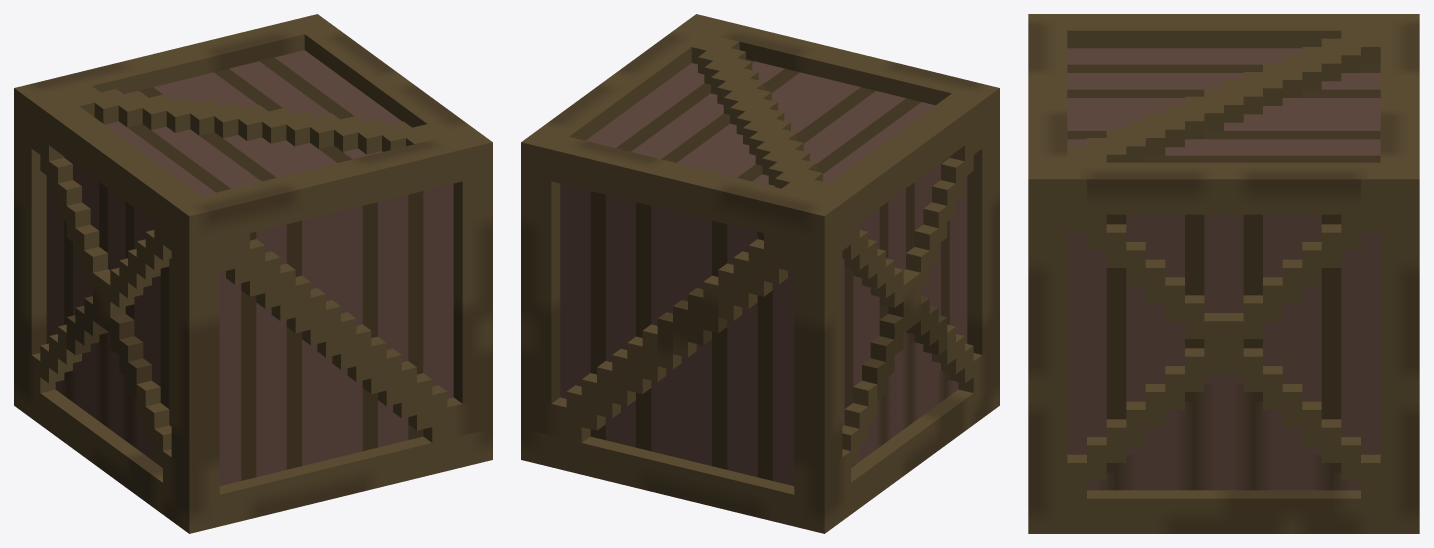
Rendered from Crate_Big_00.fbx.
3 views of the same model, side by side, from view 1: azimuth 30°, elevation 25°; view 2: azimuth 150°, elevation 25°; view 3: azimuth 270°, elevation 25° (orthographic). The views are drawn at different scales.
Visible parts, largest first — view 1: Crate_Big_00; view 2: Crate_Big_00; view 3: Crate_Big_00.
Part boxes in pixels (<box>): Crate_Big_00: <box>14,14,492,533</box>; Crate_Big_00: <box>521,14,999,533</box>; Crate_Big_00: <box>1028,14,1419,533</box>.
Bounding box in the file's own units: 100 × 100 × 100.
